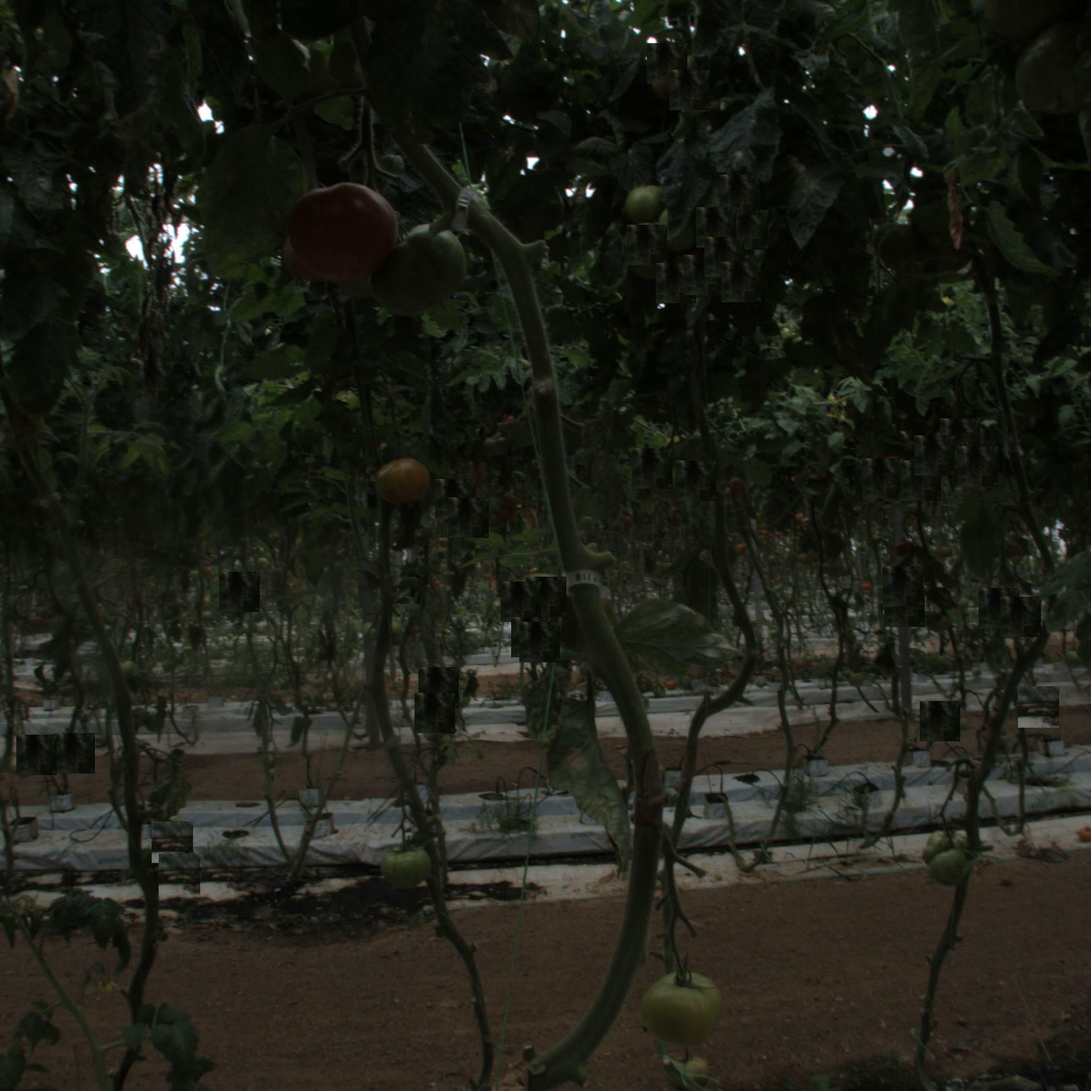fully-ripe: (298, 185, 392, 279)
semi-ripe: (379, 460, 424, 505)
unripe: (641, 964, 724, 1047), (387, 237, 461, 311), (1021, 41, 1085, 106), (624, 181, 672, 229), (382, 839, 427, 884), (929, 848, 970, 890)
